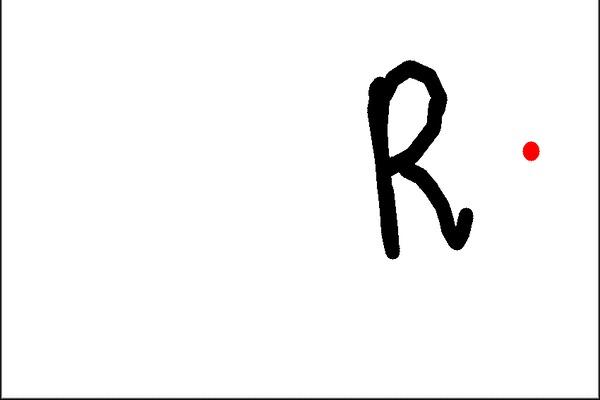R: (359, 43, 482, 258)
